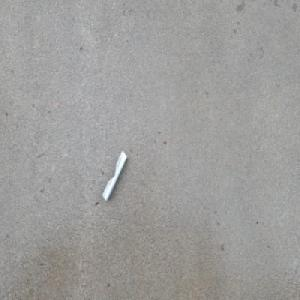ClampPart: (102, 150, 128, 203)
